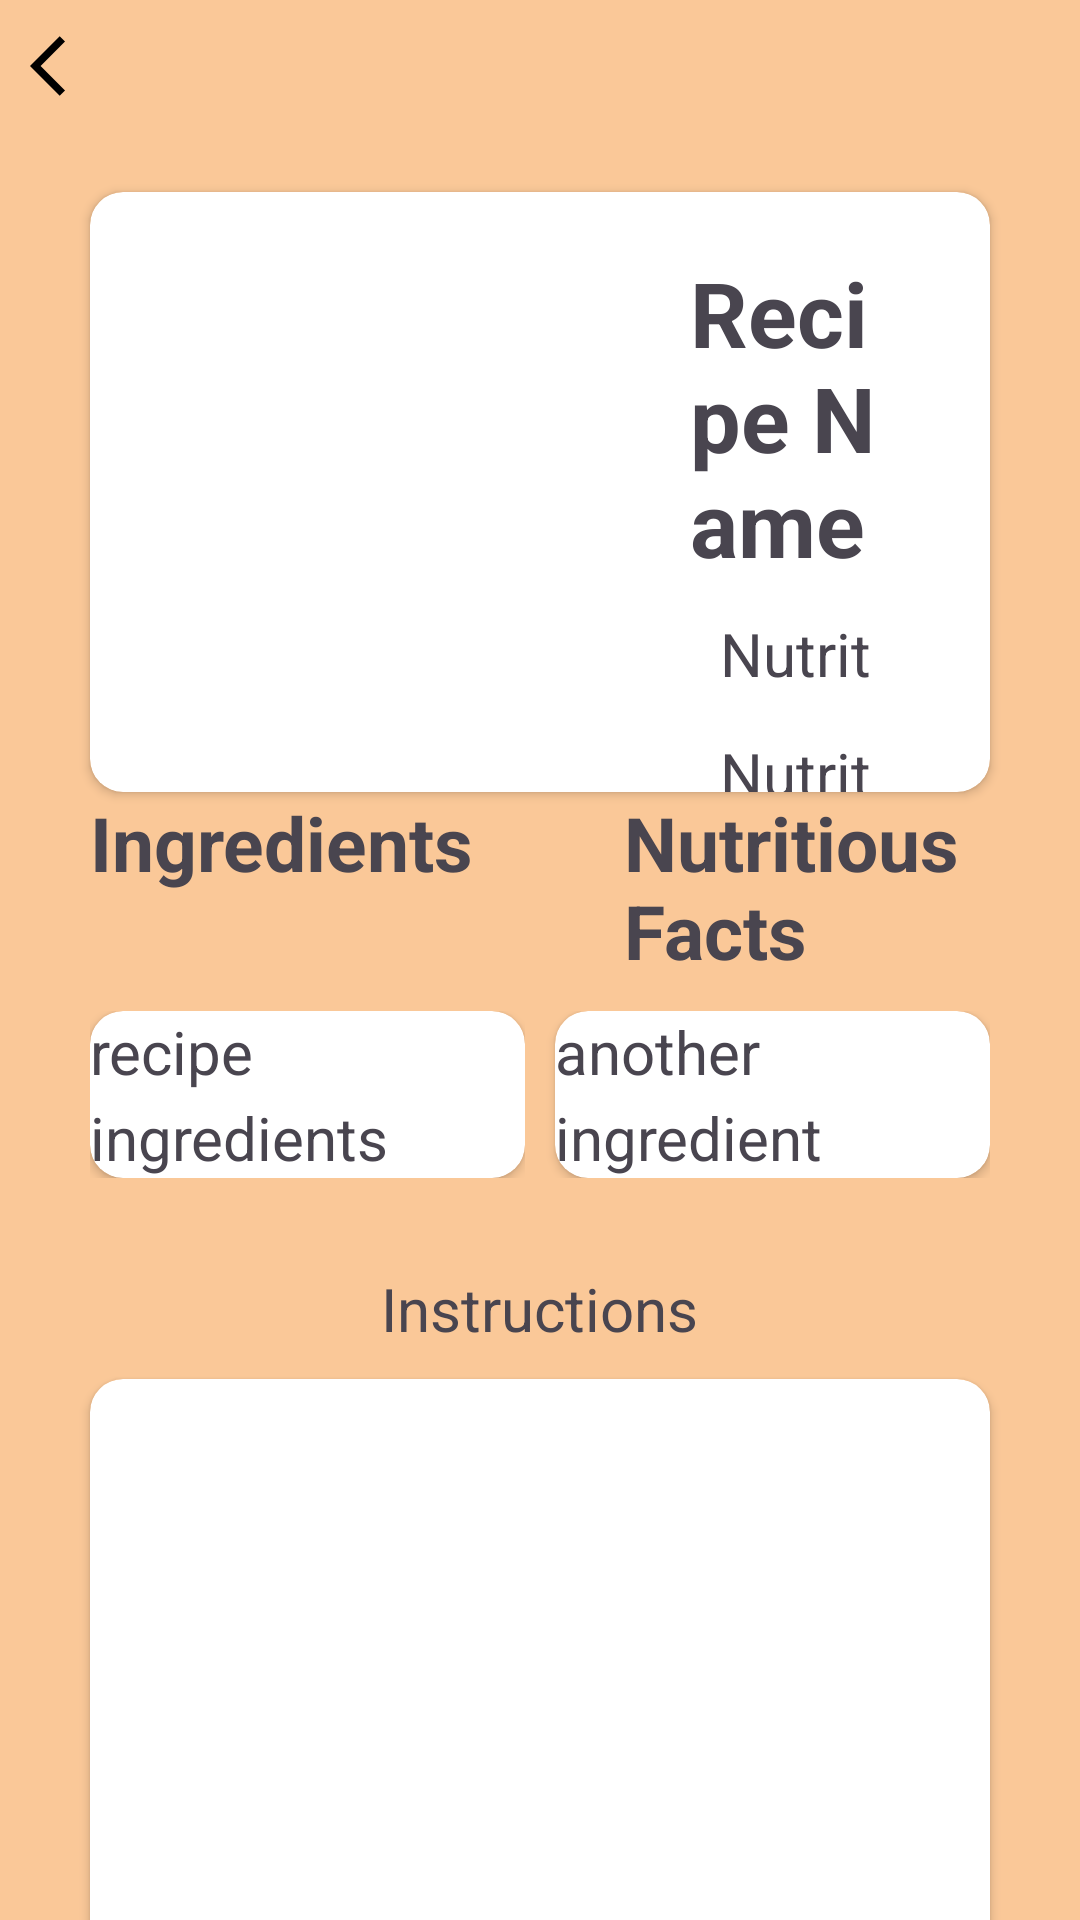

Icons on this 1080 x 1920 Android screen, each with the point to tap as (x,y):
backicon: (47,66)
